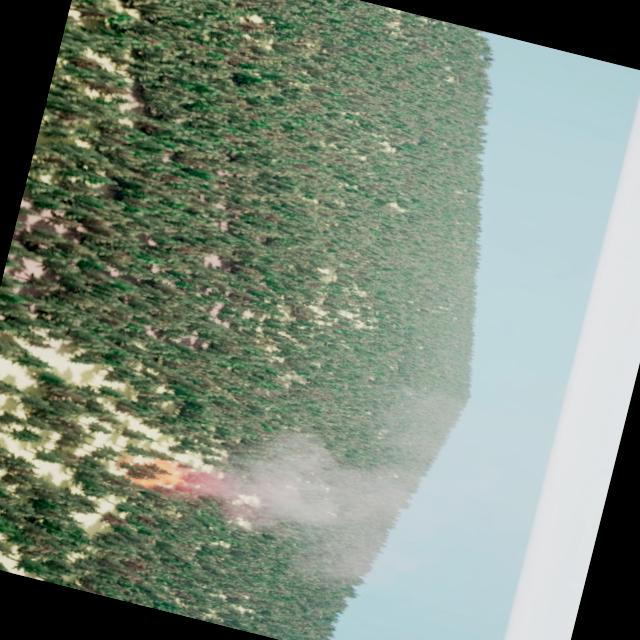fire: (128, 449, 194, 502)
smoke: (176, 339, 479, 606)
